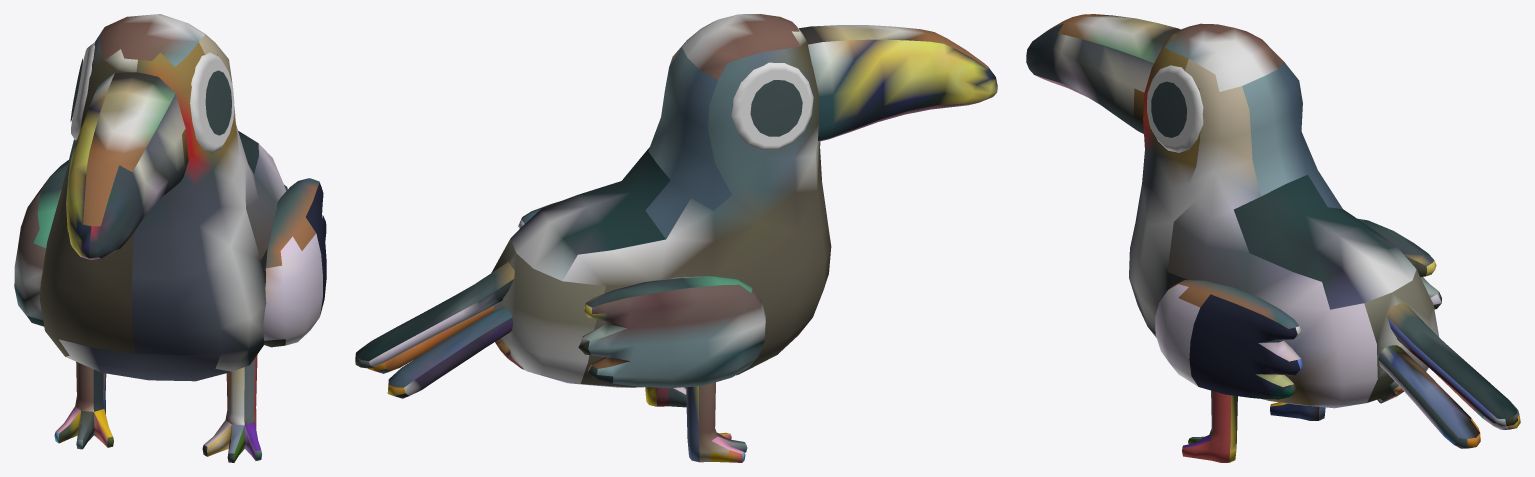
The model's file is Toucan.glb.
3 renders of one model, left to right at view 1: azimuth 30°, elevation 25°; view 2: azimuth 150°, elevation 25°; view 3: azimuth 270°, elevation 25°, orthographic. The views are drawn at different scales.
Parts seen in each view (by area): view 1: 167; view 2: 167; view 3: 167.
Part boxes in pixels (left/top/right/bottom): 167: left=14, top=14, right=326, bottom=462; 167: left=355, top=14, right=997, bottom=462; 167: left=1026, top=14, right=1520, bottom=462.
Size of the model in its own units: 0.6596 by 0.6203 by 0.7223.
